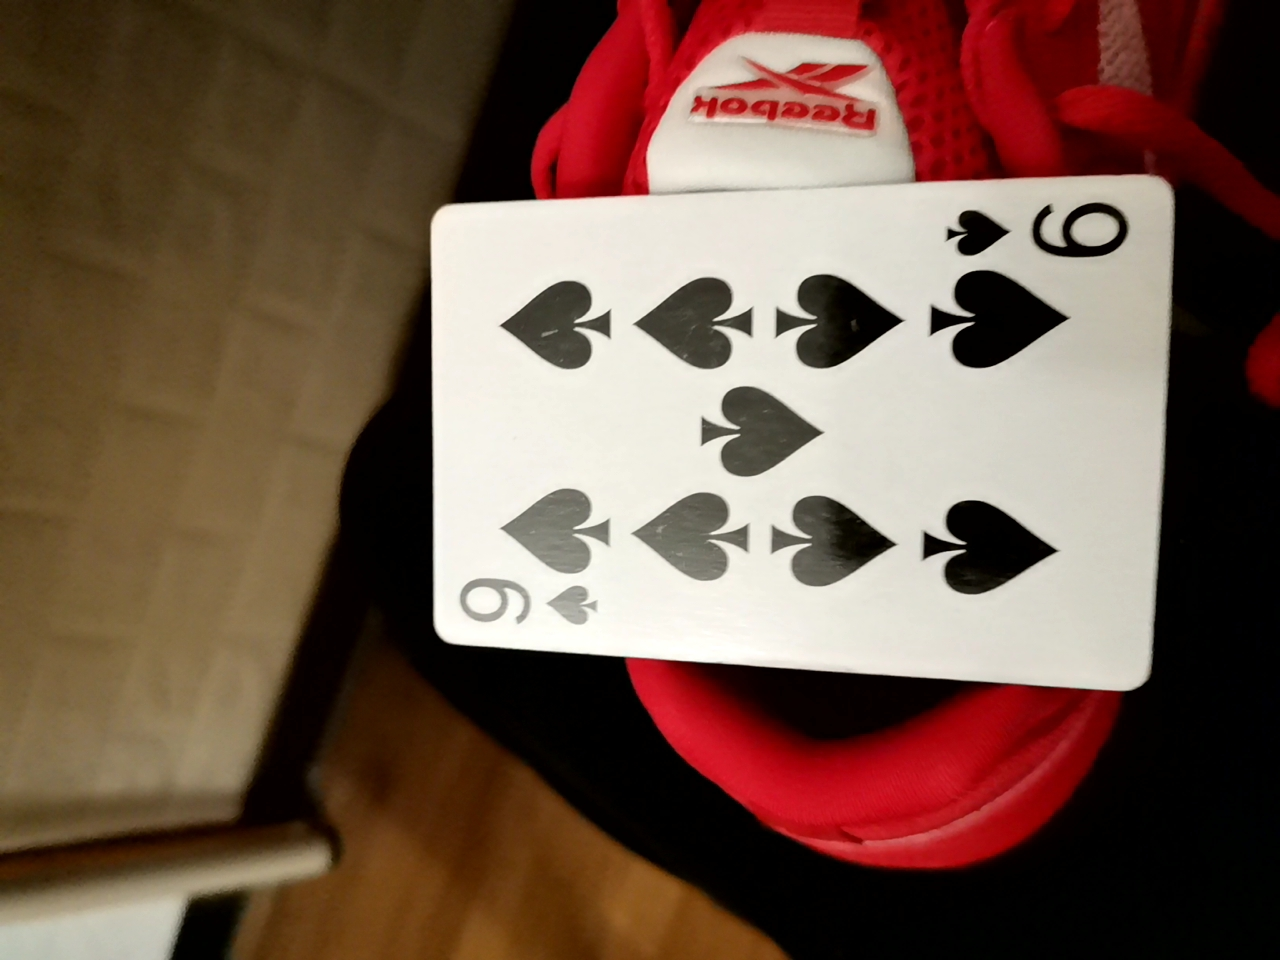ht 9: (404, 162, 1185, 694)
